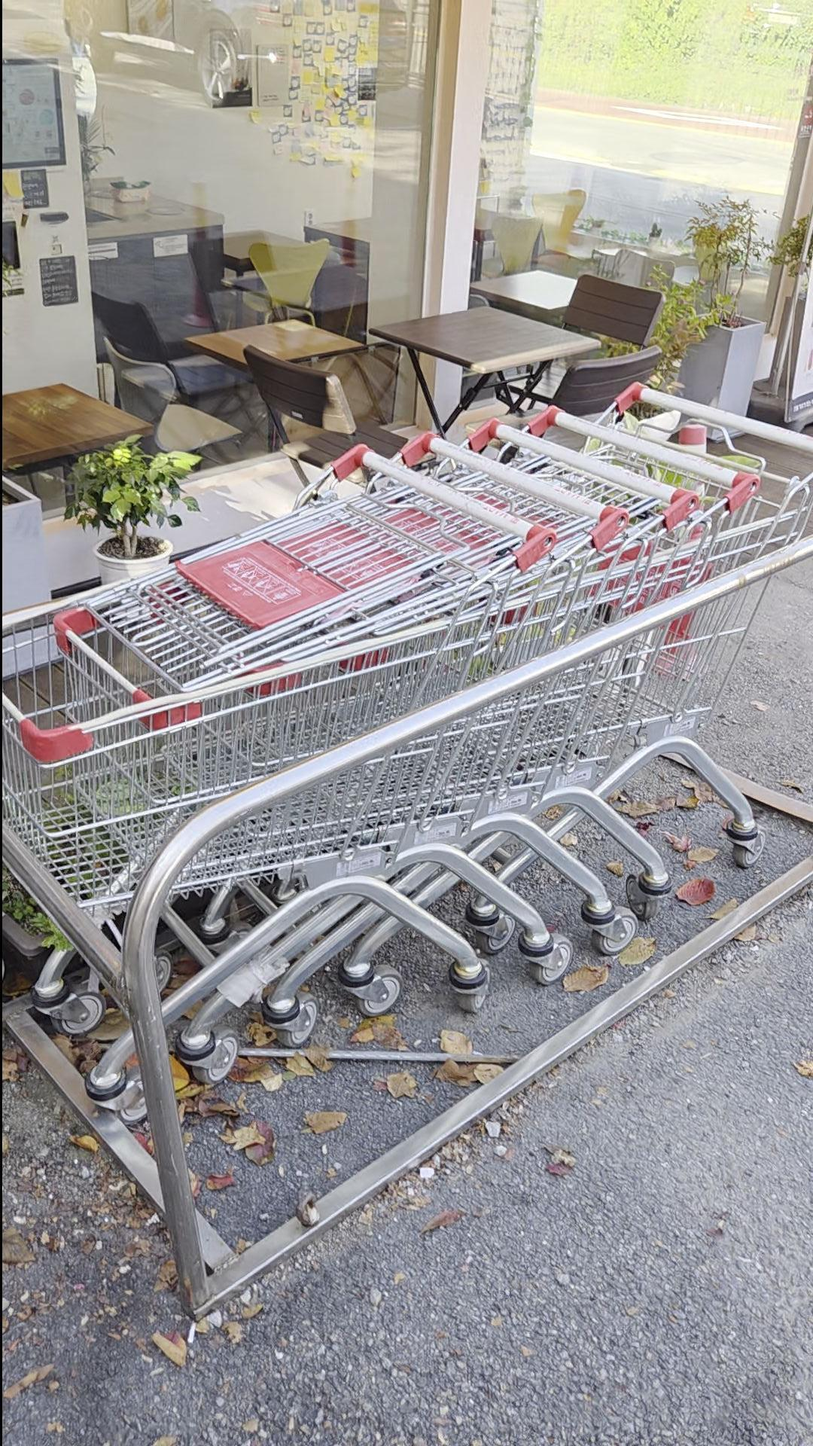combined_cart: (1, 371, 812, 1329)
